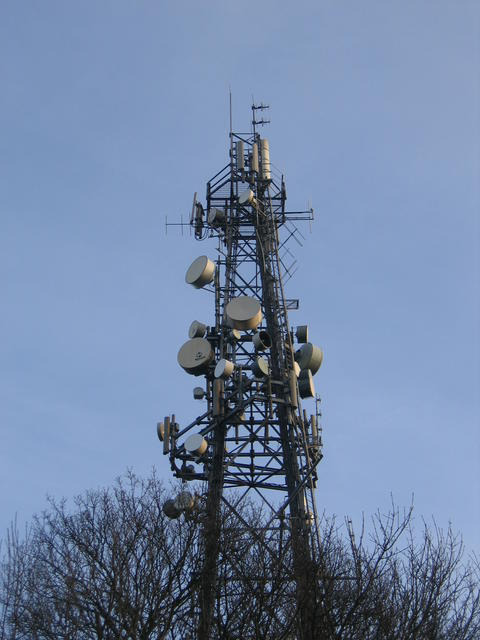ba: (219, 295, 272, 334), (174, 332, 219, 376), (186, 240, 219, 296), (295, 369, 325, 404), (184, 431, 214, 461), (291, 341, 324, 367), (171, 488, 196, 515), (254, 354, 274, 382)
sa: (260, 135, 278, 189)
